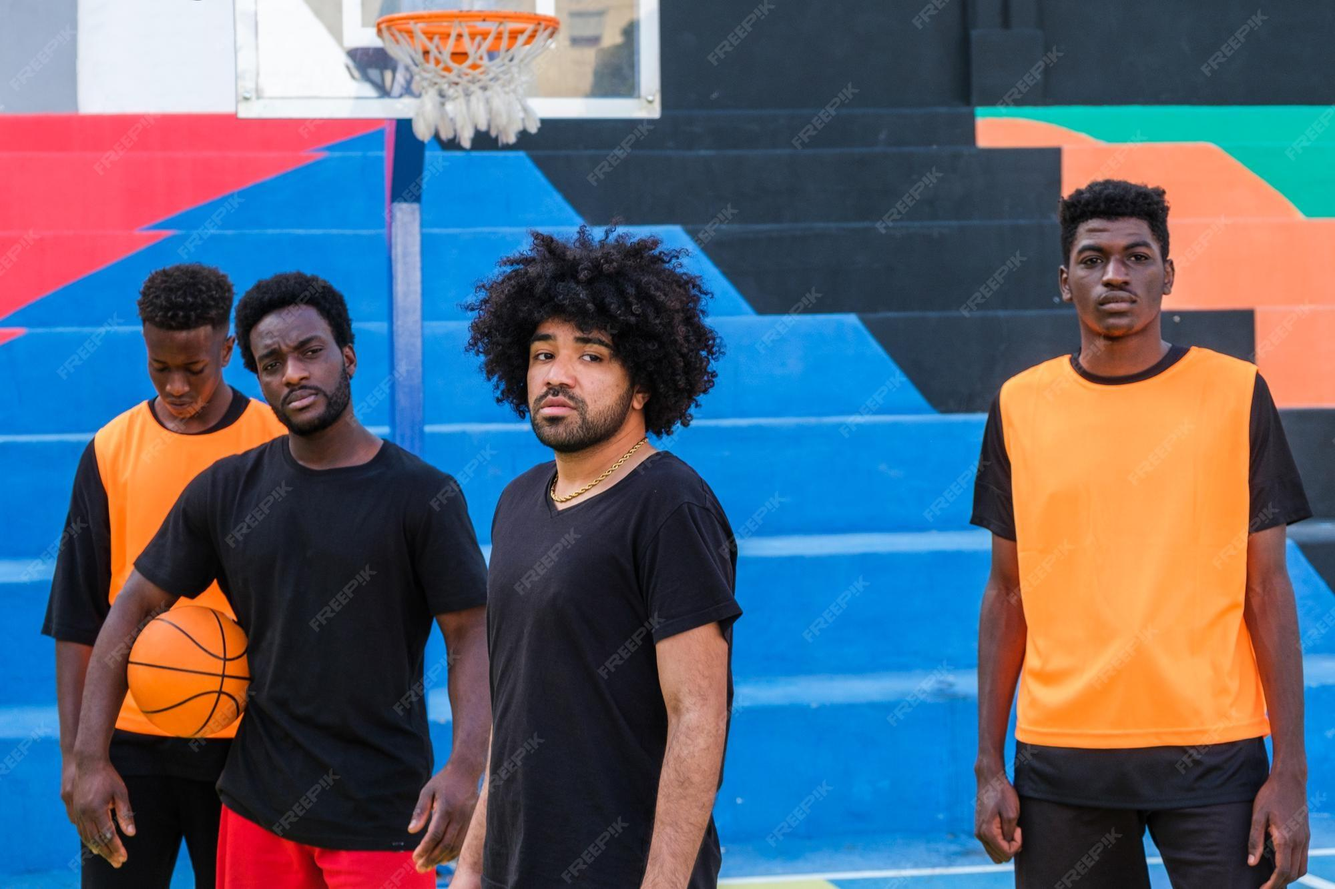basketball: (129, 612, 247, 735)
